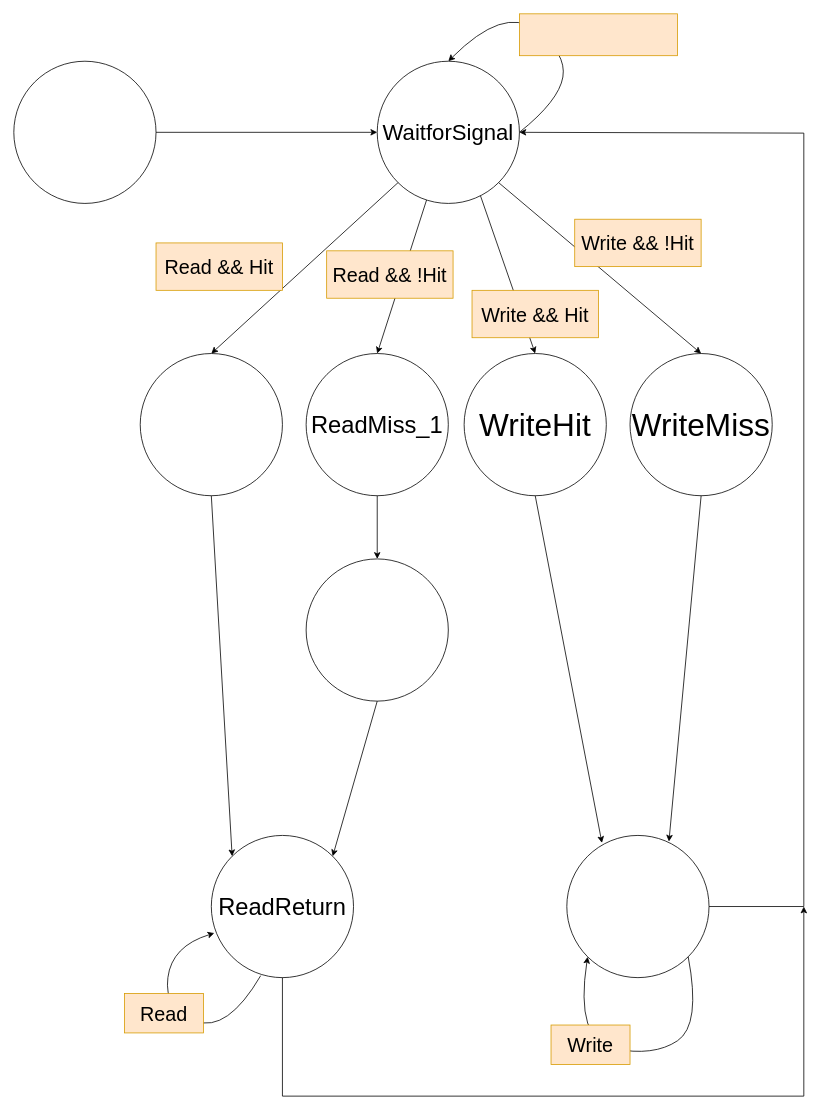
Some shapes in this 824 by 1116 pixel diagram are drawn without their labels. Here are the shapes that lost their labels. From the top down, the centre of each, then its label:
(x=598, y=34): !Read && !Write
(x=84, y=131): start
(x=210, y=424): ReadHit
(x=376, y=629): ReadMiss_2
(x=637, y=906): WriteReturn
